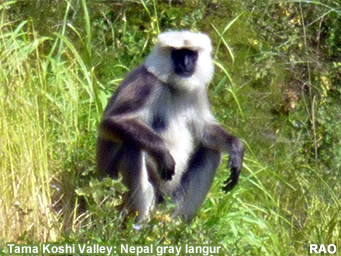monkey: (92, 22, 249, 239)
